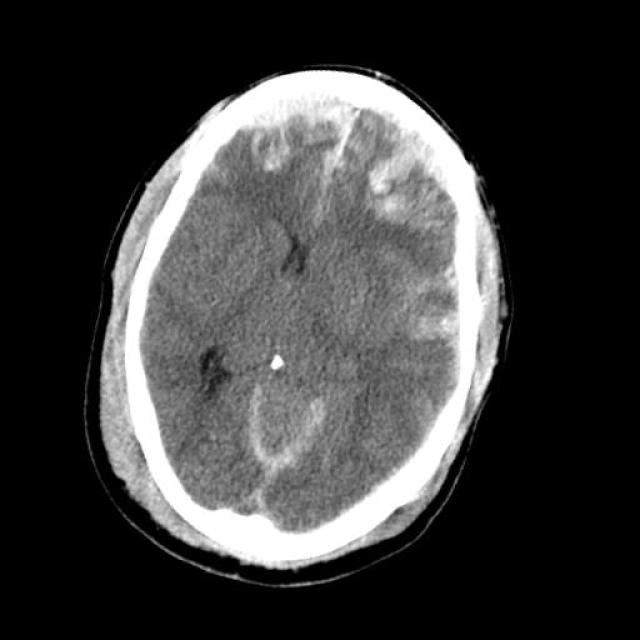Intraparenchymal: (332, 134, 462, 262), (382, 265, 496, 376)
Subarachnoid: (238, 113, 303, 186)
Subdural: (185, 43, 383, 162)
